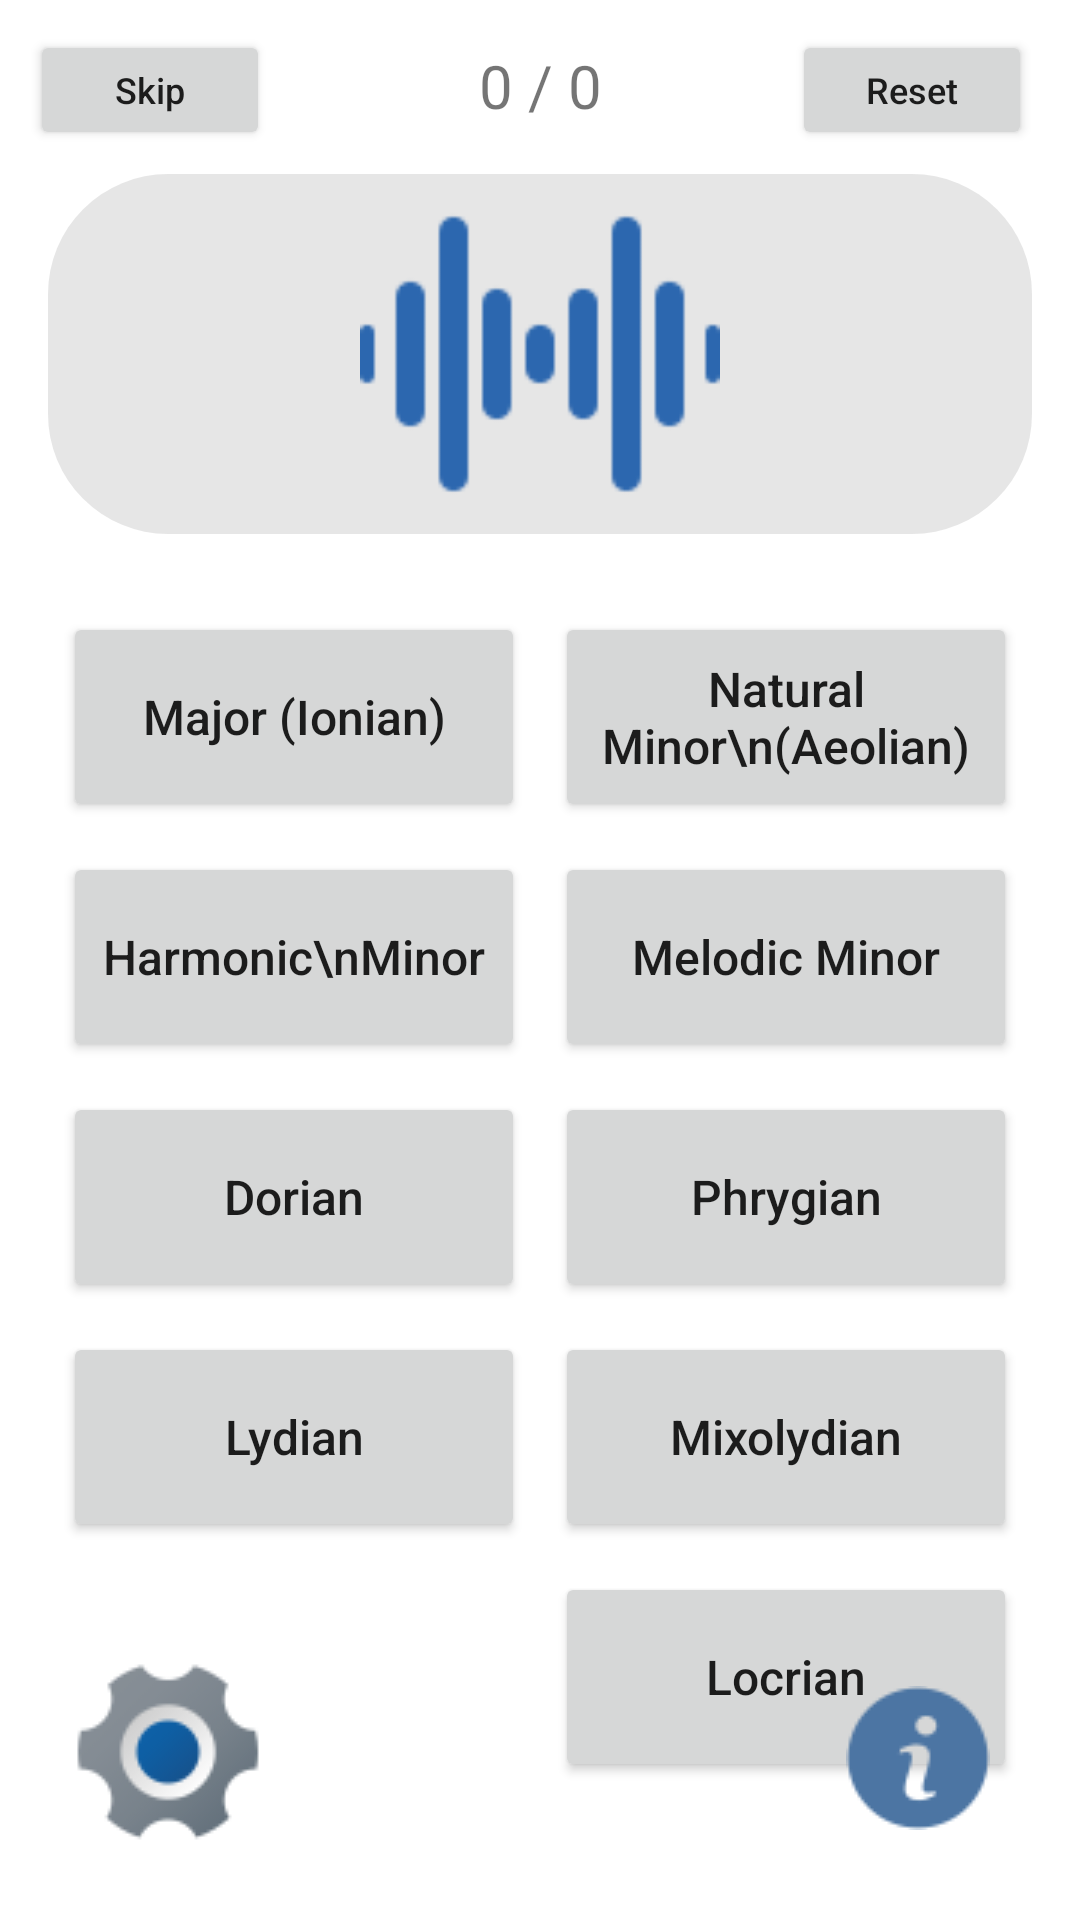

Screen size 1080×1920. Icon name, then its center in pixels as (x,y):
info: (918,1758)
setting: (168,1752)
